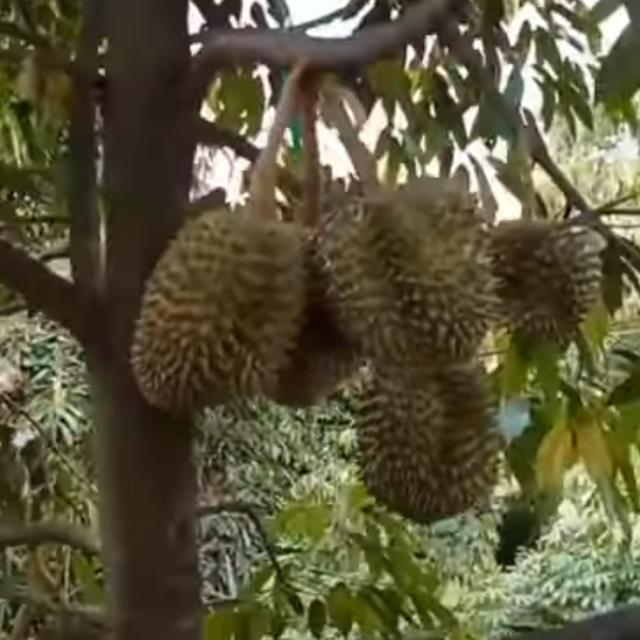mature: (129, 205, 307, 407), (321, 173, 499, 359), (349, 324, 501, 530)
